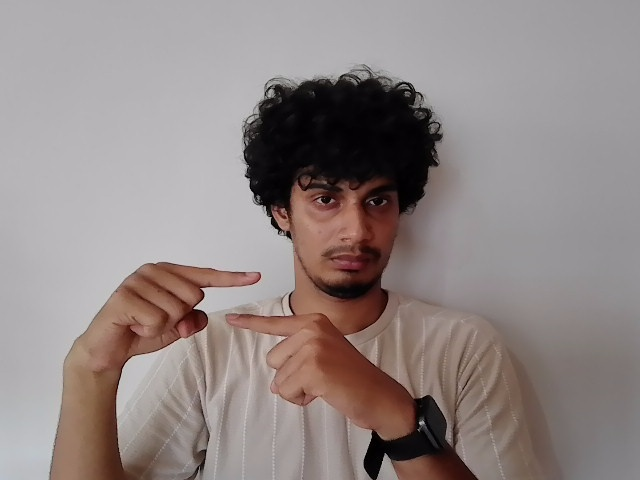about: (65, 258, 400, 417)
